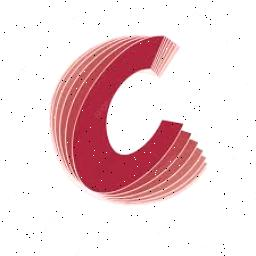c: (52, 21, 212, 201)
